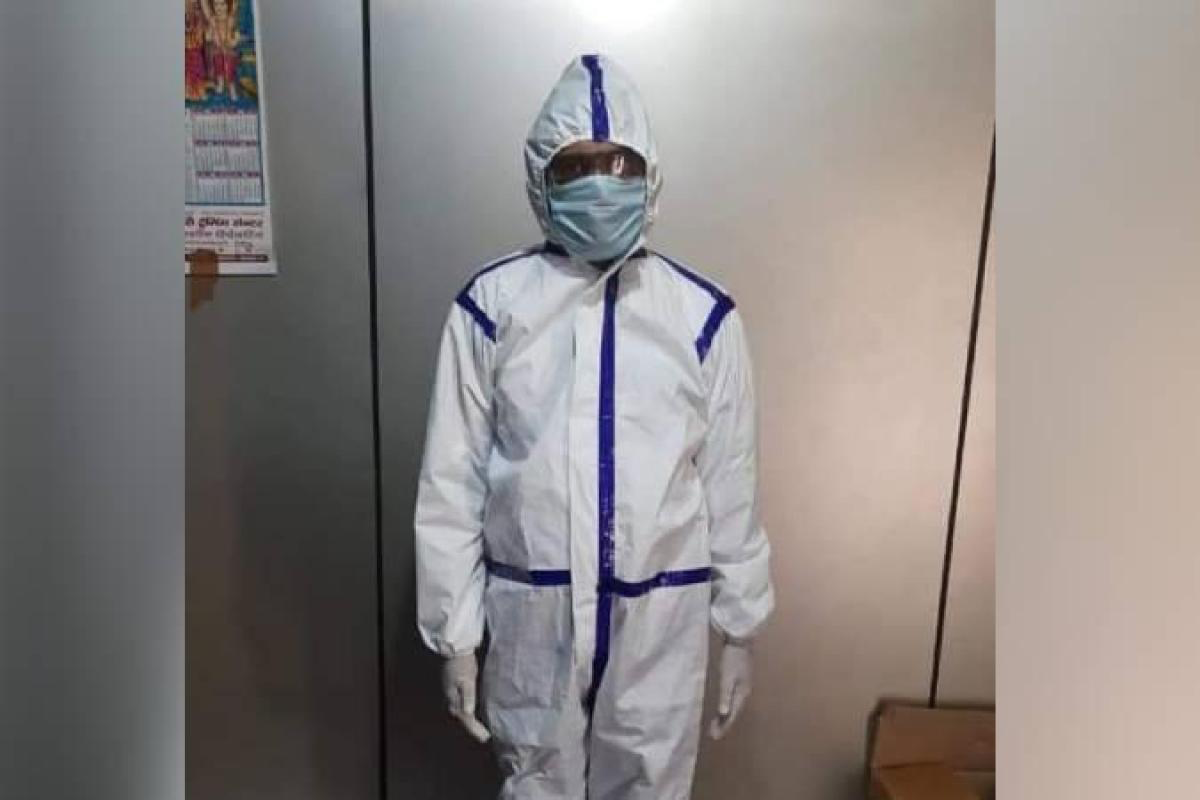Coverall: (406, 57, 766, 800)
Gloves: (439, 658, 494, 745), (709, 639, 755, 741)
with_mask: (547, 147, 647, 262)
